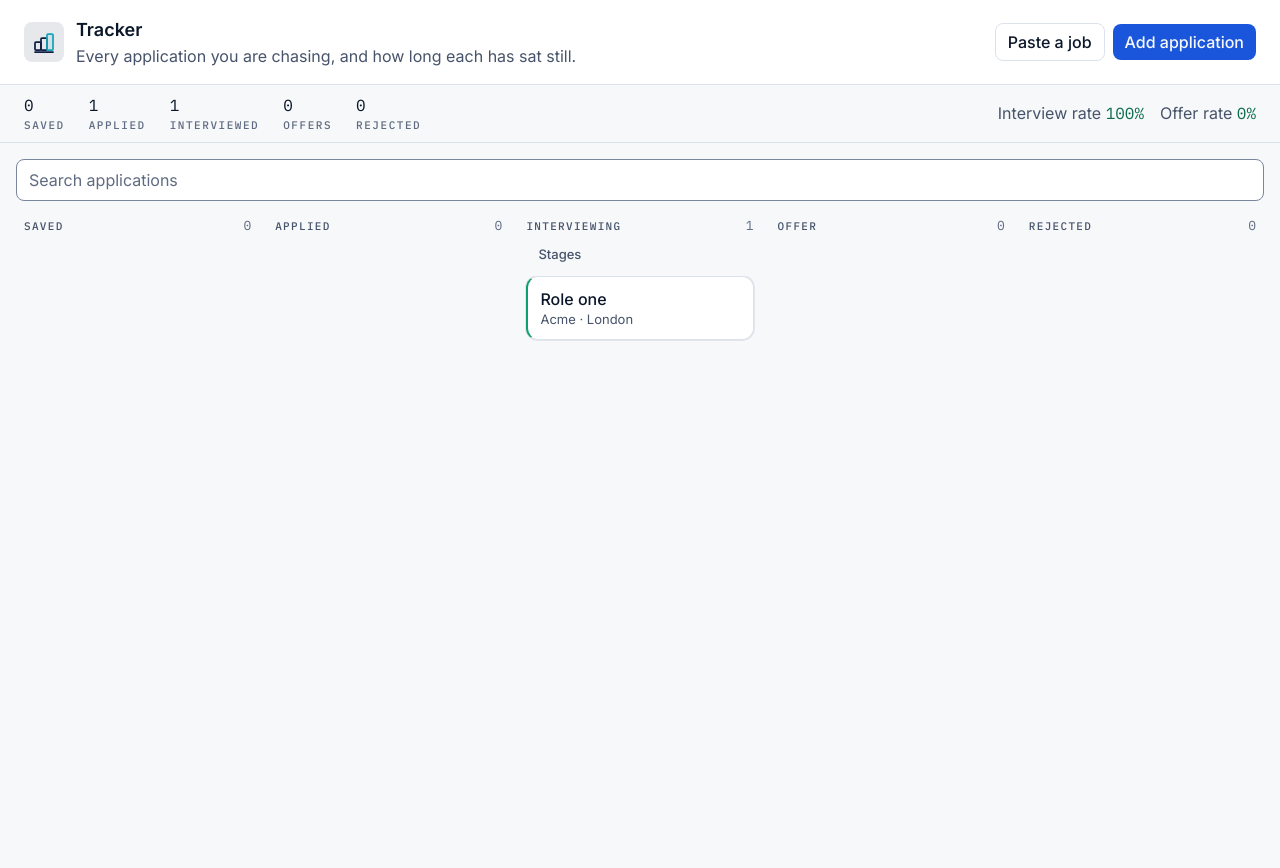
Test: choosing a sub-stage from the detail pane › puts the card back and says so when the save fails
Check: the element with test id "tracker-column-interviewing" is shown, box [518,208,762,348]
Click the button with test id "tracker-card-one": (640, 308) [526,276,754,340]
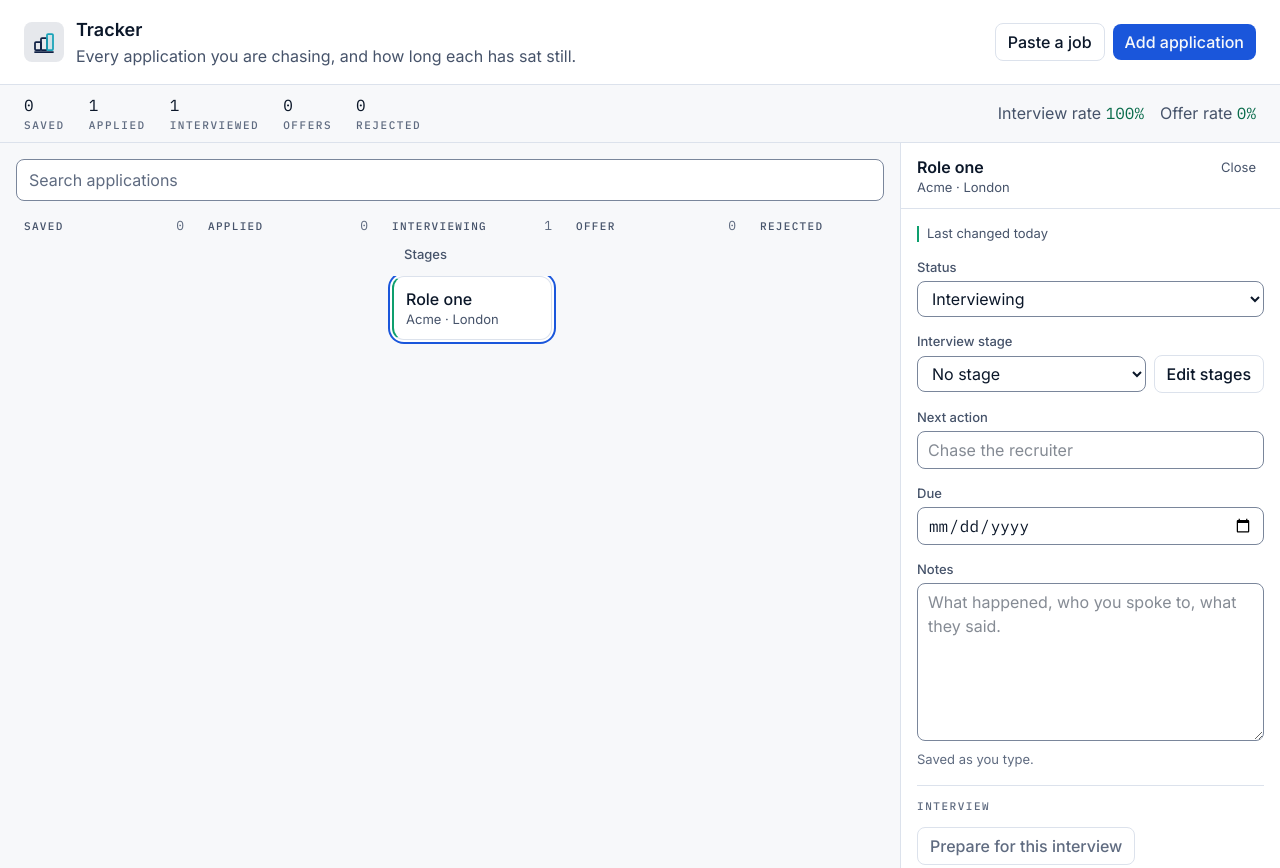
Select "HR Screen" in the dropdown with test id "detail-substage": (1031, 374) [917,356,1146,392]
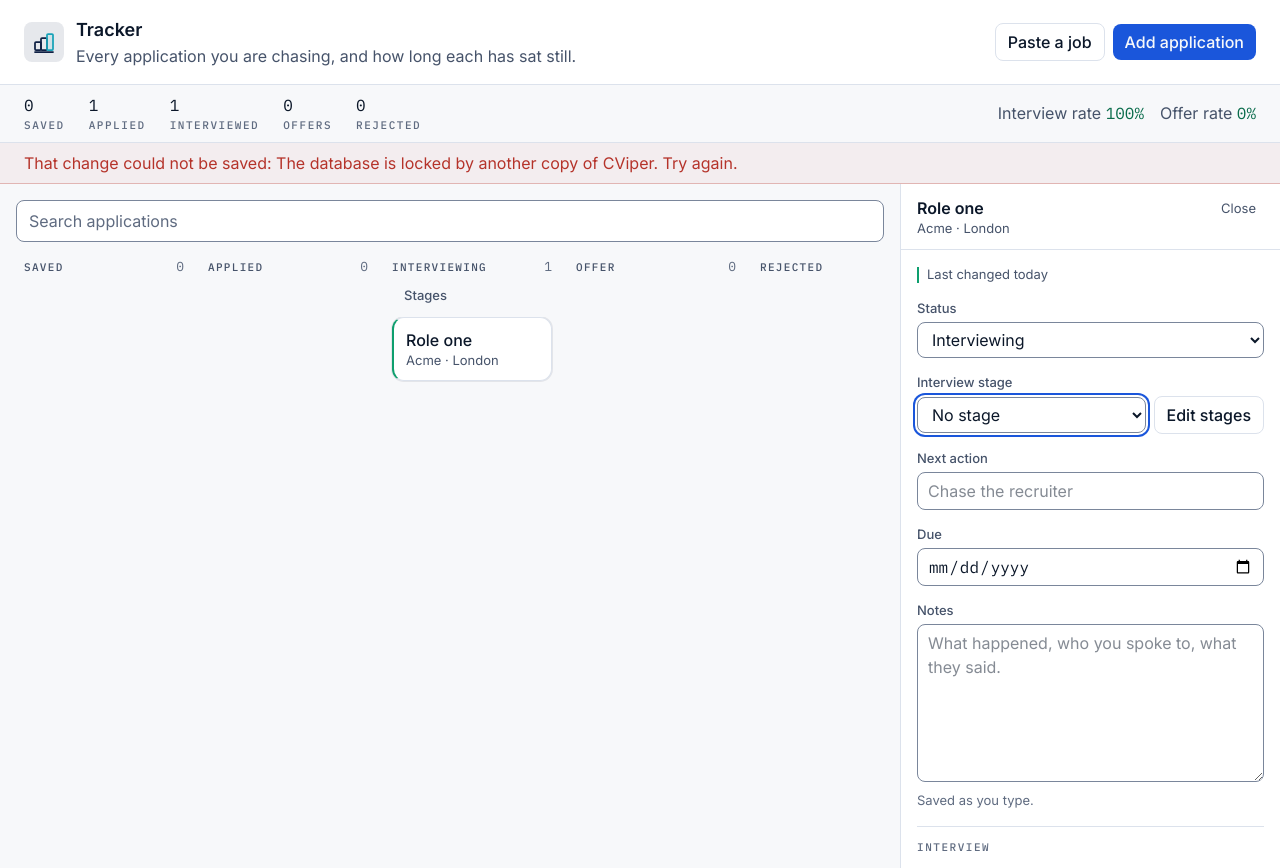
Check: the message with test id "tracker-error" shows "could not be saved", box [24,152,738,172]
